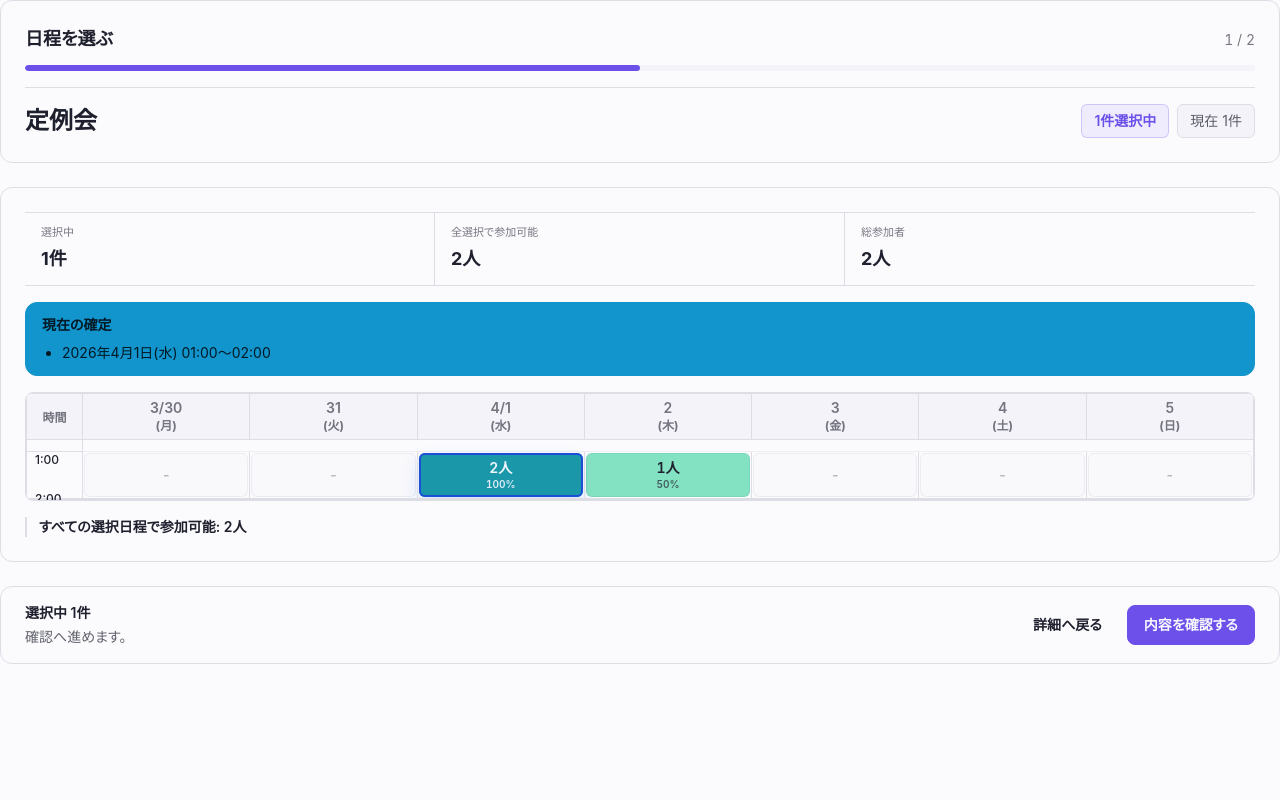
it: FinalizeEventPage › 選択ステップから確認ステップへ進める
The width and height of the screenshot is (1280, 800).
Check: the heading "日程を選ぶ" is shown, box x1=25 y1=25 x2=113 y2=53
Click the button "内容を確認する": [1191, 625] box x1=1127 y1=605 x2=1255 y2=645
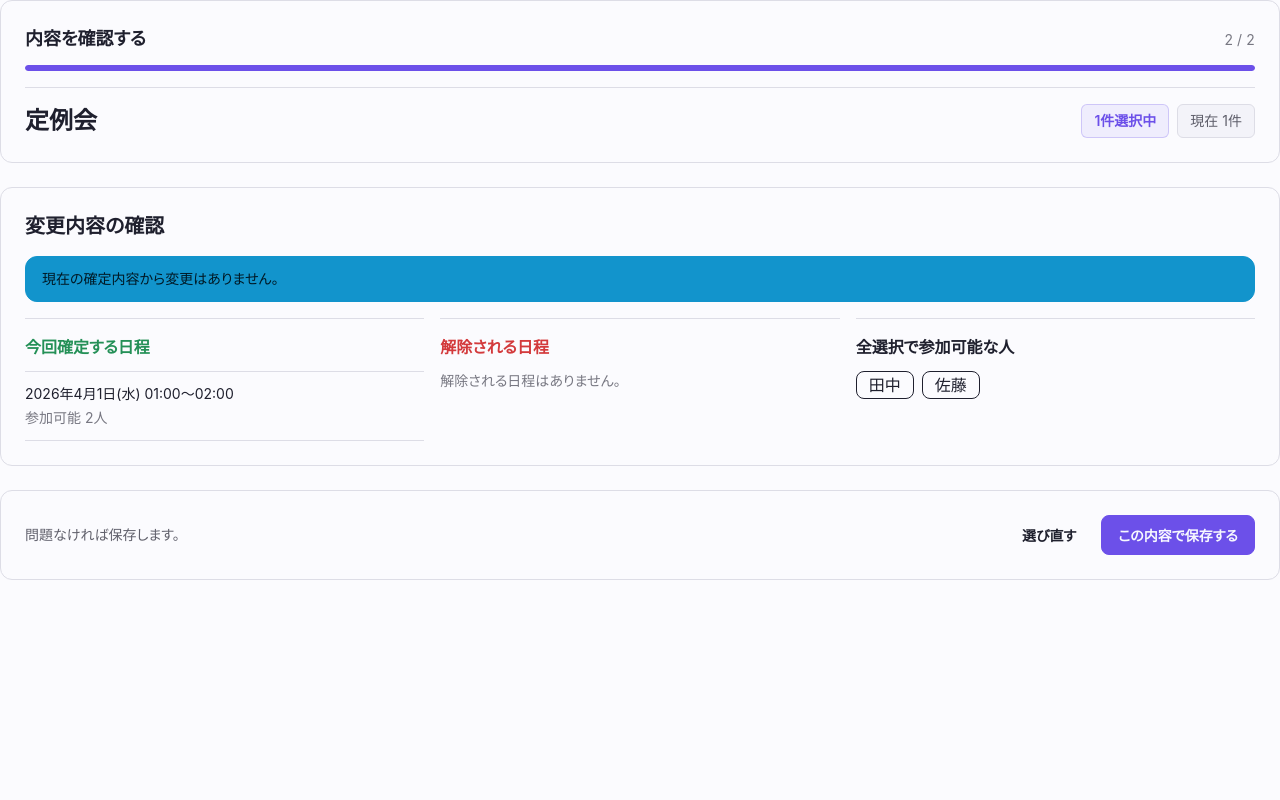
Check: the heading "変更内容の確認" is shown, box x1=25 y1=214 x2=164 y2=238
Check: the heading "今回確定する日程" is shown, box x1=25 y1=337 x2=150 y2=357
